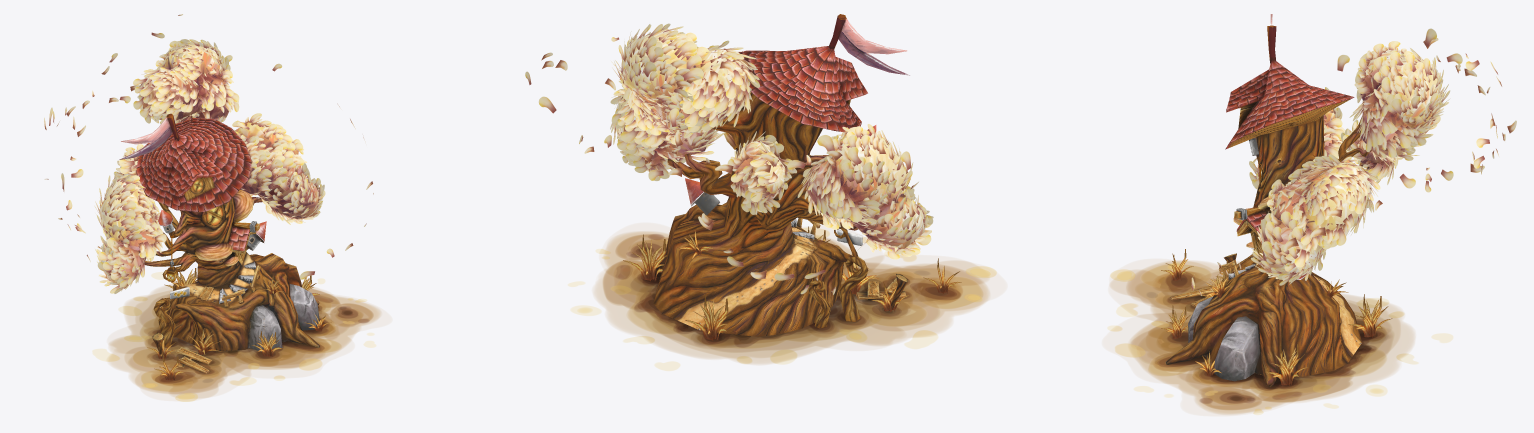
The model's file is treehouse_concept.glb.
3 renders of one model, left to right at view 1: azimuth 30°, elevation 25°; view 2: azimuth 150°, elevation 25°; view 3: azimuth 270°, elevation 25°, orthographic. The views are drawn at different scales.
Parts seen in each view (by area): view 1: Cube.009, Cube.3468, Circle.007; view 2: Cube.009, Cube.3468, Circle.007; view 3: Cube.009, Cube.3468, Circle.007.
Boxes of the visible parts, left/top/right/bottom form: Cube.009: left=99, top=44, right=331, bottom=380; Cube.3468: left=44, top=14, right=373, bottom=293; Circle.007: left=92, top=272, right=381, bottom=401; Cube.009: left=616, top=14, right=961, bottom=340; Cube.3468: left=525, top=23, right=933, bottom=294; Circle.007: left=568, top=227, right=996, bottom=370; Cube.009: left=1161, top=14, right=1441, bottom=387; Cube.3468: left=1191, top=28, right=1516, bottom=295; Circle.007: left=1108, top=260, right=1452, bottom=414.
Size of the model in its own units: 2.63 by 2.14 by 2.82.
3 materials, 3 textured.
